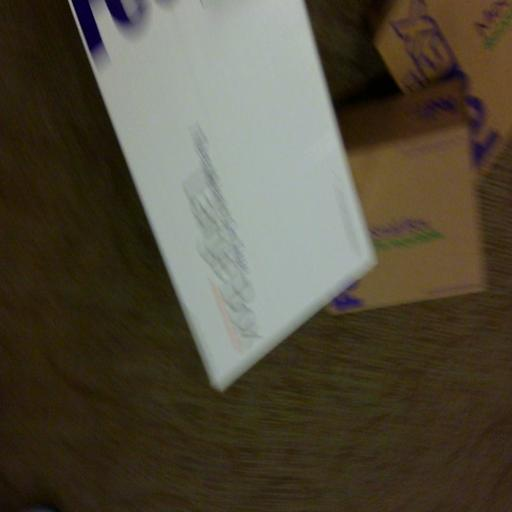Amazon: (382, 0, 512, 165)
